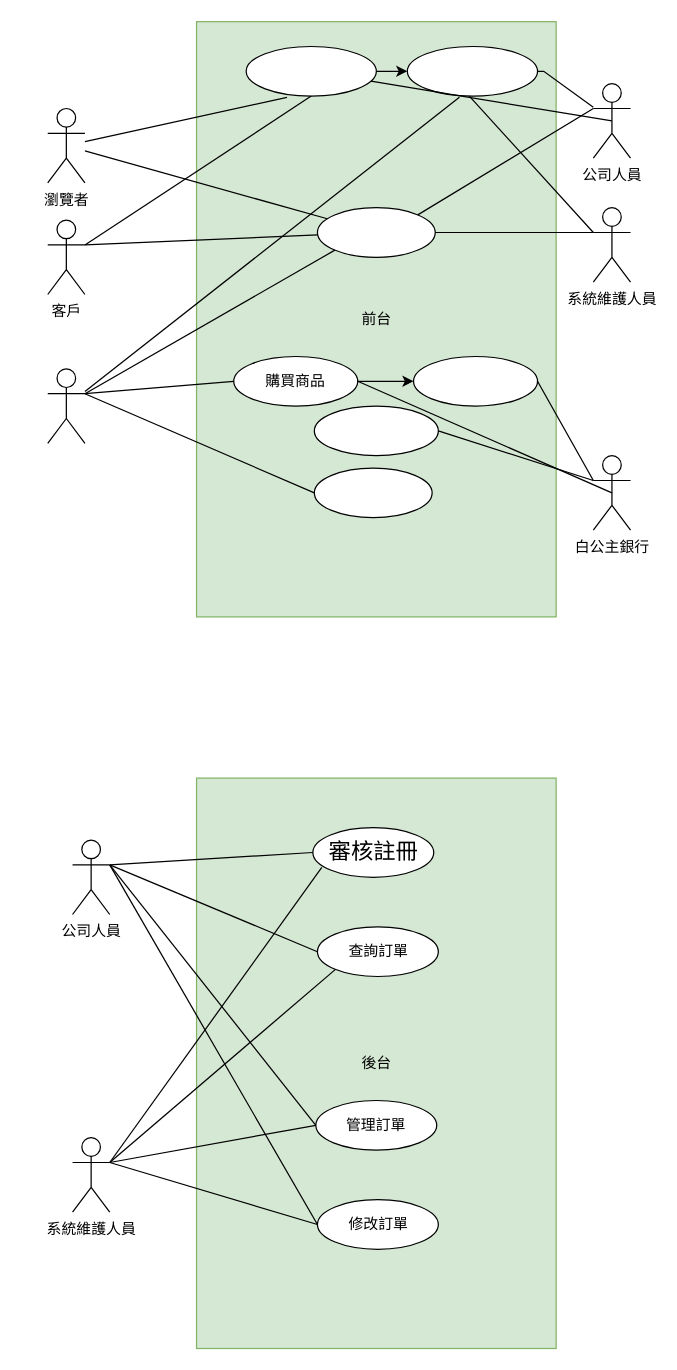
The diagram is 677 pixels wide and 1370 high, and some of its shapes have lost their labels. The centre of each missing label's shape, as x and y in pixels:
完成註冊客戶: pixel 65 405
提供金融交易: pixel 375 430
查看商品: pixel 375 231
查看過往訂單: pixel 372 492
登入: pixel 472 70
結帳: pixel 475 380
註冊: pixel 310 70
